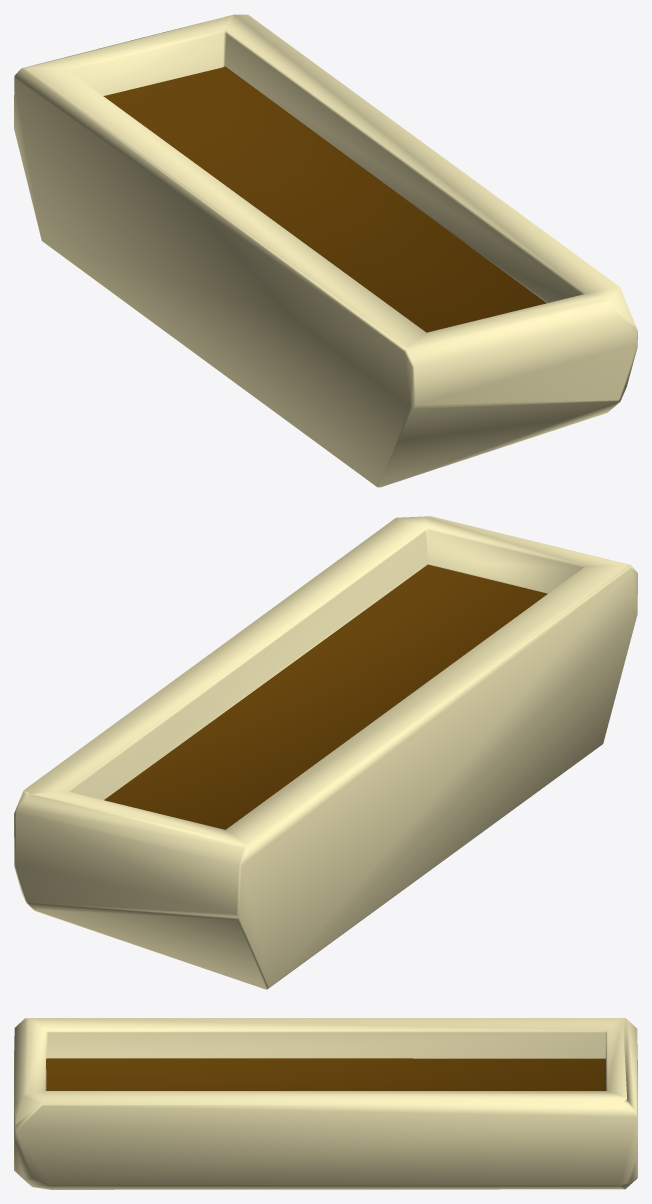
The model's file is Module_Window_Planter_Long_02_LOD01.fbx.
3 views of the same model, one above another, from view 1: azimuth 30°, elevation 25°; view 2: azimuth 150°, elevation 25°; view 3: azimuth 270°, elevation 25° (orthographic). The views are drawn at different scales.
Visible parts, largest first — view 1: Module_Window_Planter_Long_02_LOD01_Geometry; view 2: Module_Window_Planter_Long_02_LOD01_Geometry; view 3: Module_Window_Planter_Long_02_LOD01_Geometry.
Boxes of the visible parts, left/top/right/bottom form: Module_Window_Planter_Long_02_LOD01_Geometry: left=14, top=14, right=637, bottom=487; Module_Window_Planter_Long_02_LOD01_Geometry: left=14, top=516, right=637, bottom=989; Module_Window_Planter_Long_02_LOD01_Geometry: left=14, top=1018, right=637, bottom=1189.
Bounding box in the file's own units: 0.6561 × 0.4419 × 2.
